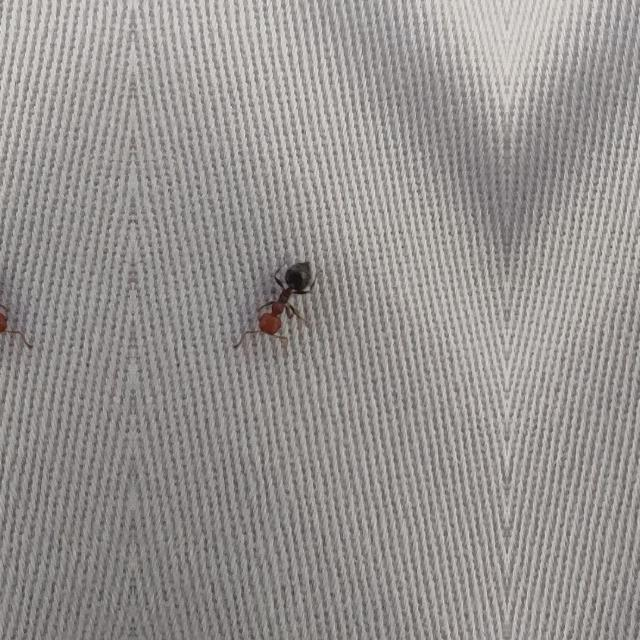Crematogaster: (250, 250, 324, 348)
